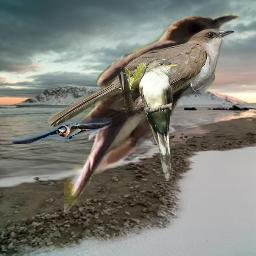Cuckoo: (64, 11, 240, 220), (46, 27, 234, 127), (139, 58, 179, 182)
Swallow: (11, 118, 112, 144)
